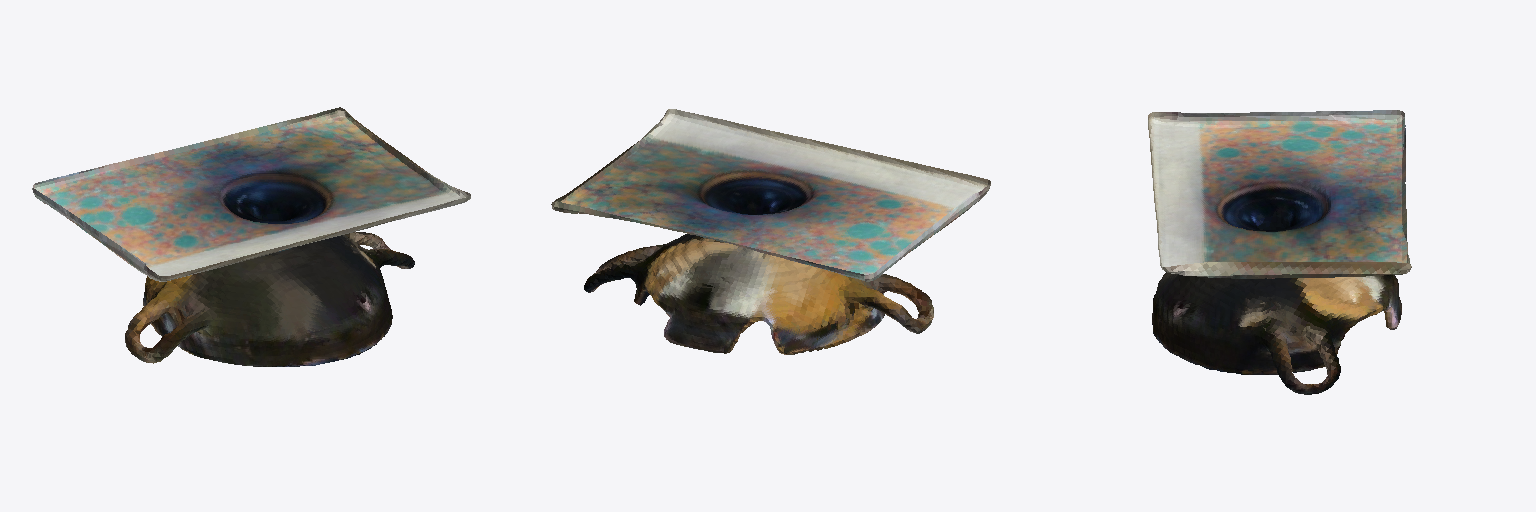
3 renders of one model, left to right at view 1: azimuth 30°, elevation 25°; view 2: azimuth 150°, elevation 25°; view 3: azimuth 270°, elevation 25°, orthographic.
Bounding box in the file's own units: 0.2255 × 0.0861 × 0.157.
Materials: 1 (1 with a texture image).